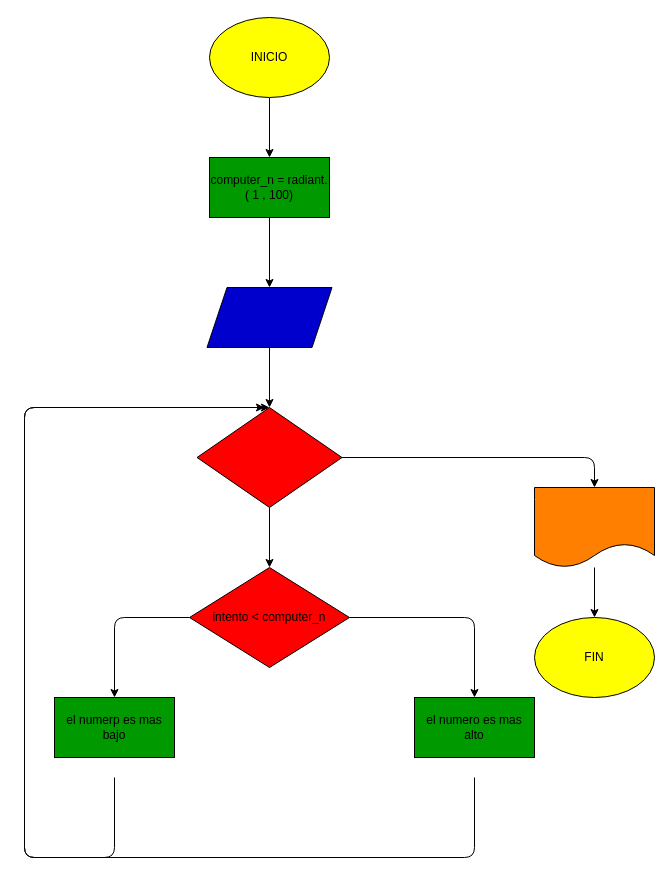
Some shapes in this 672 by 883 pixel diagram are drawn without their labels. The shapes that lost their labels are listed below. From the top down, each one's centre as x and y in pixels, then its label:
At pixel 269 317: "intento intento".
At pixel 269 457: "intento != computer_n".
At pixel 594 527: "adivinaste el numero".
